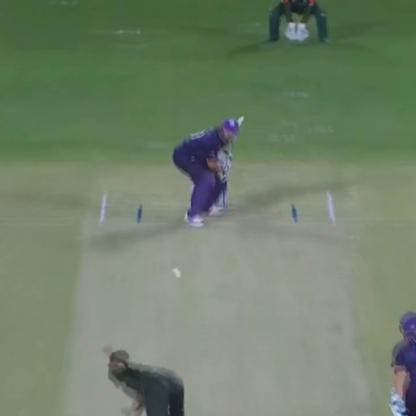ball: (169, 270, 185, 284), (166, 266, 184, 273)
bat: (216, 111, 249, 143)
pitch: (71, 187, 358, 416)
